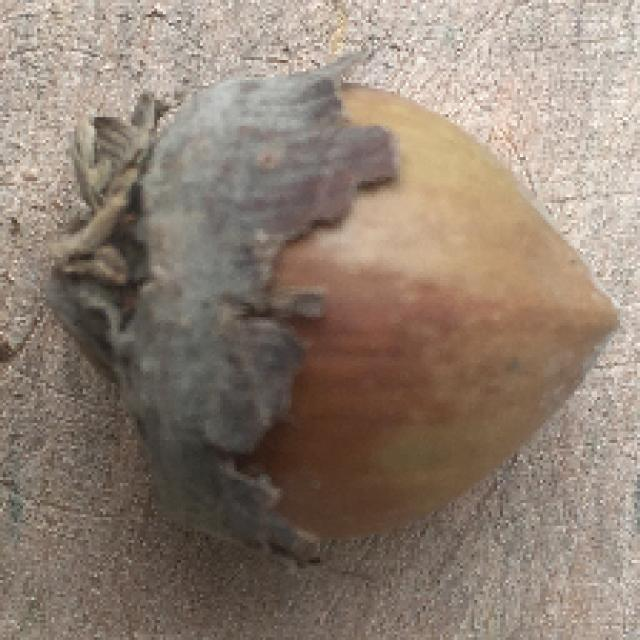damagedHazelnut: (49, 51, 626, 566)
